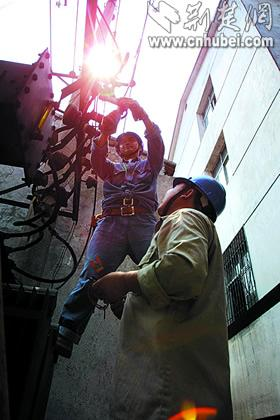boots: (53, 323, 81, 358)
hard-hat: (171, 175, 225, 217)
person: (89, 174, 234, 419), (53, 96, 165, 359)
ppe-suit: (54, 119, 164, 346)
